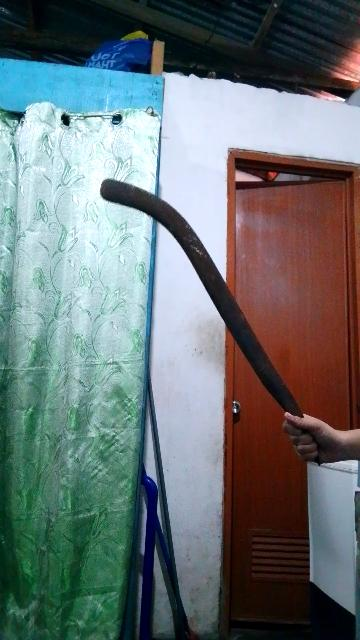long knife: (70, 162, 338, 466)
